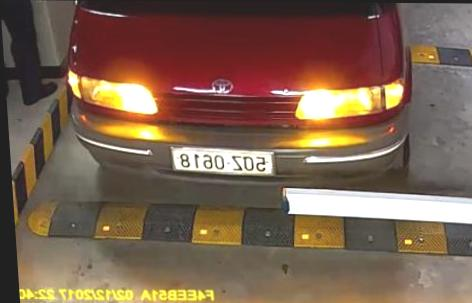License_Plate: (172, 148, 275, 176)
